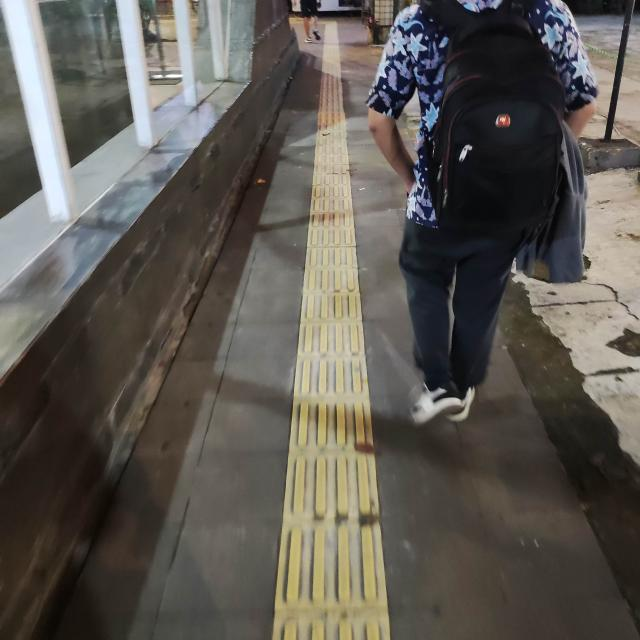lurus: (291, 52, 378, 640)
